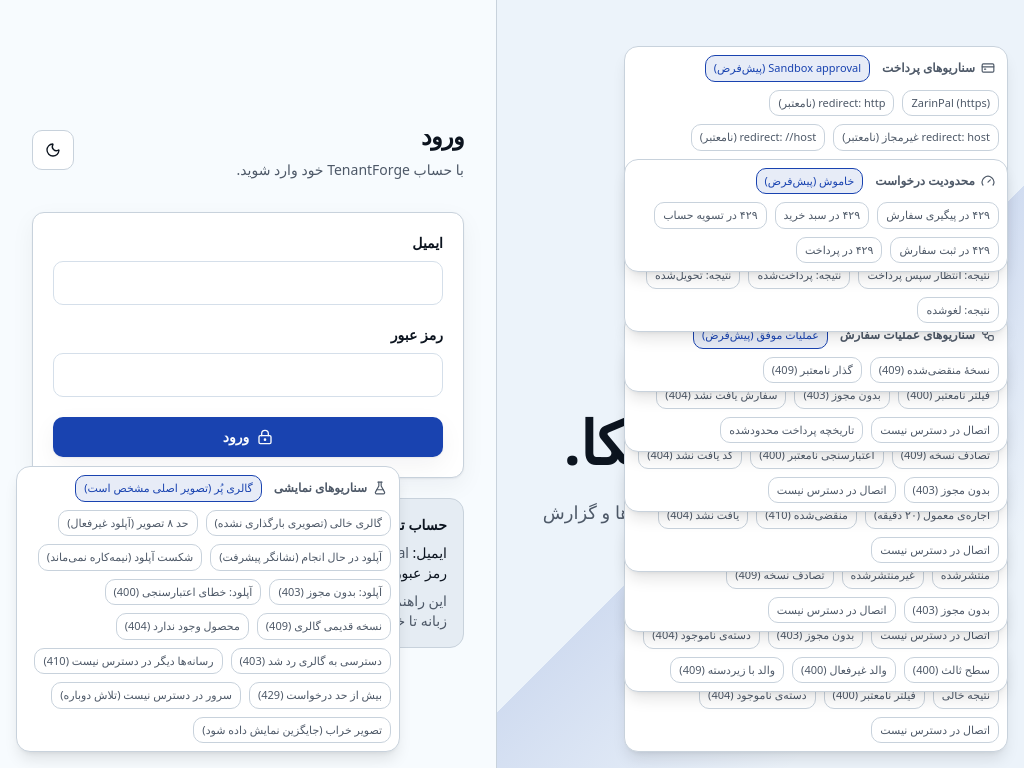
Test: S01 development login API › shows an API-unavailable alert when the API answers with an unexpected error status
The image size is (1024, 768).
Type "admin@tenantforge.local" into the field labelled "ایمیل" at (248, 283), box [53, 261, 443, 305]
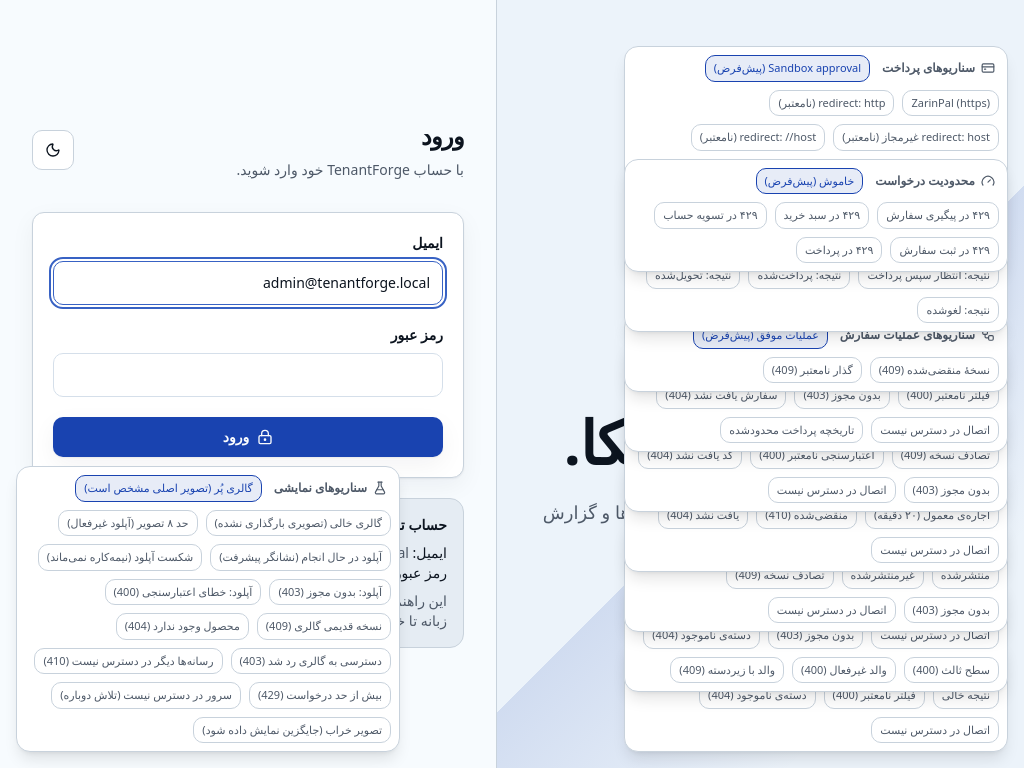
Type "local-development-password" into the password field labelled "رمز عبور" at (248, 375), box [53, 353, 443, 397]
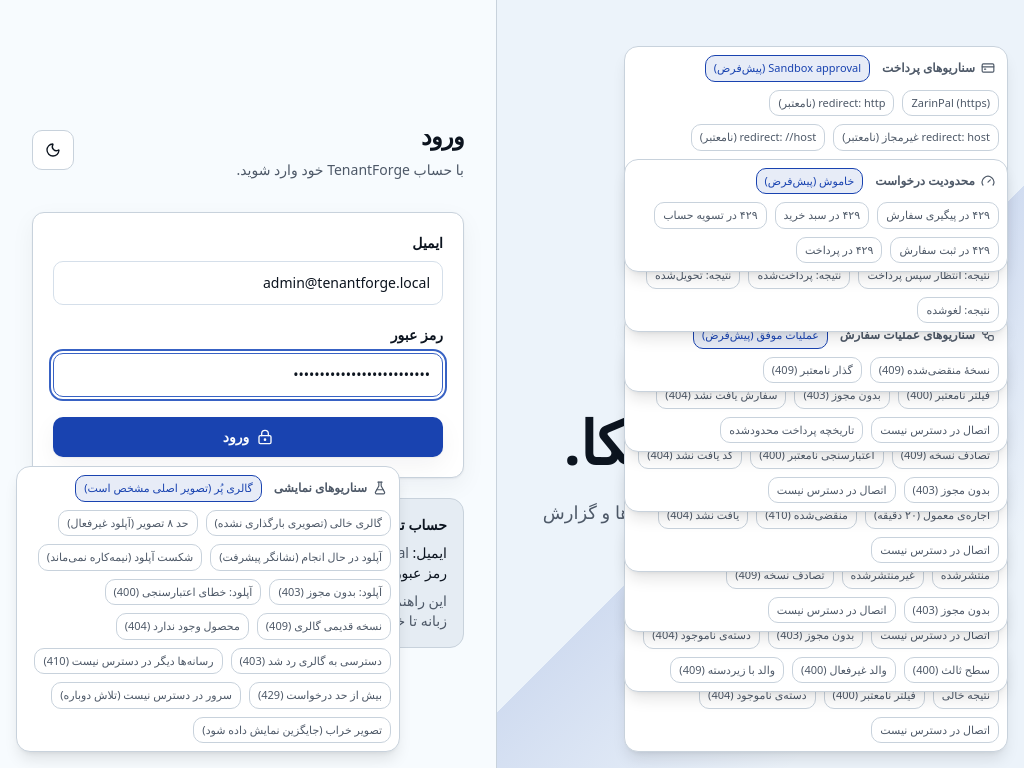
Click the button "ورود" at (248, 437), box [53, 417, 443, 457]
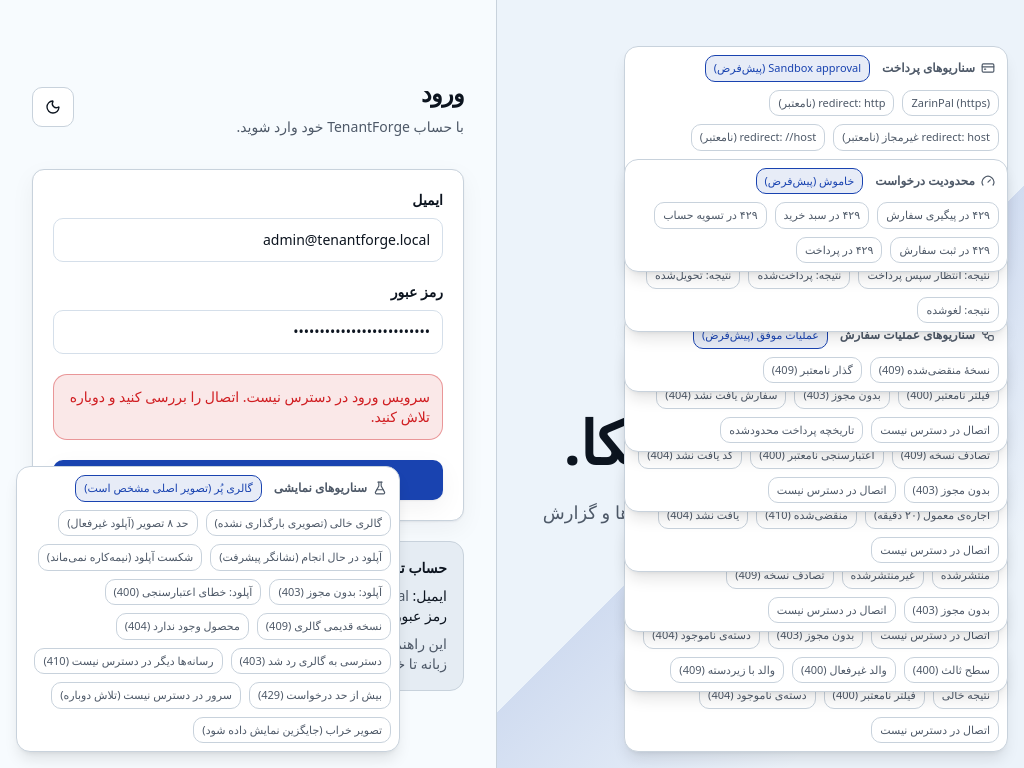
Check: the message does not show "ایمیل یا رمز عبور درست نیست", box [53, 374, 443, 440]
Check: the message reads "سرویس ورود در دسترس نیست. اتصال را بررسی کنید و دوباره تلاش کنید.", box [70, 387, 430, 426]
